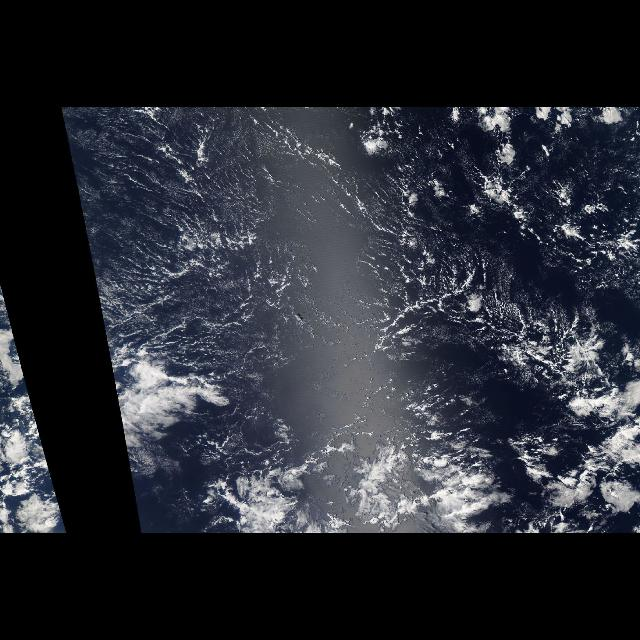Flower: (364, 107, 640, 227)
Gravel: (65, 112, 607, 396)
Sugar: (63, 107, 454, 370)
